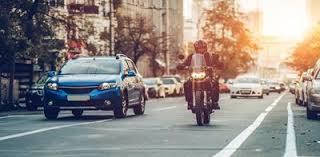car: (43, 53, 149, 119), (229, 72, 263, 99)
